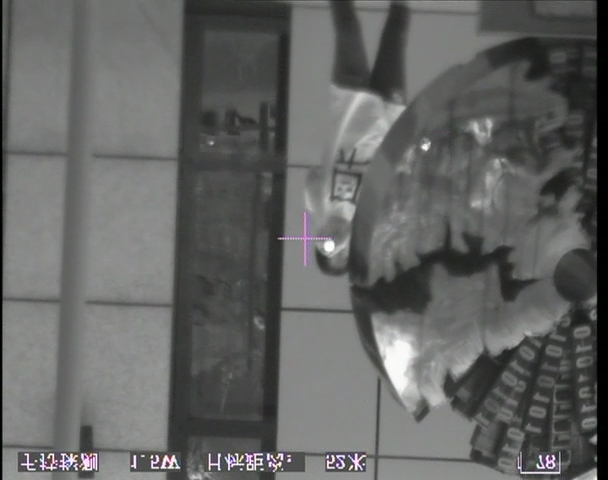my: (322, 239, 335, 252)
